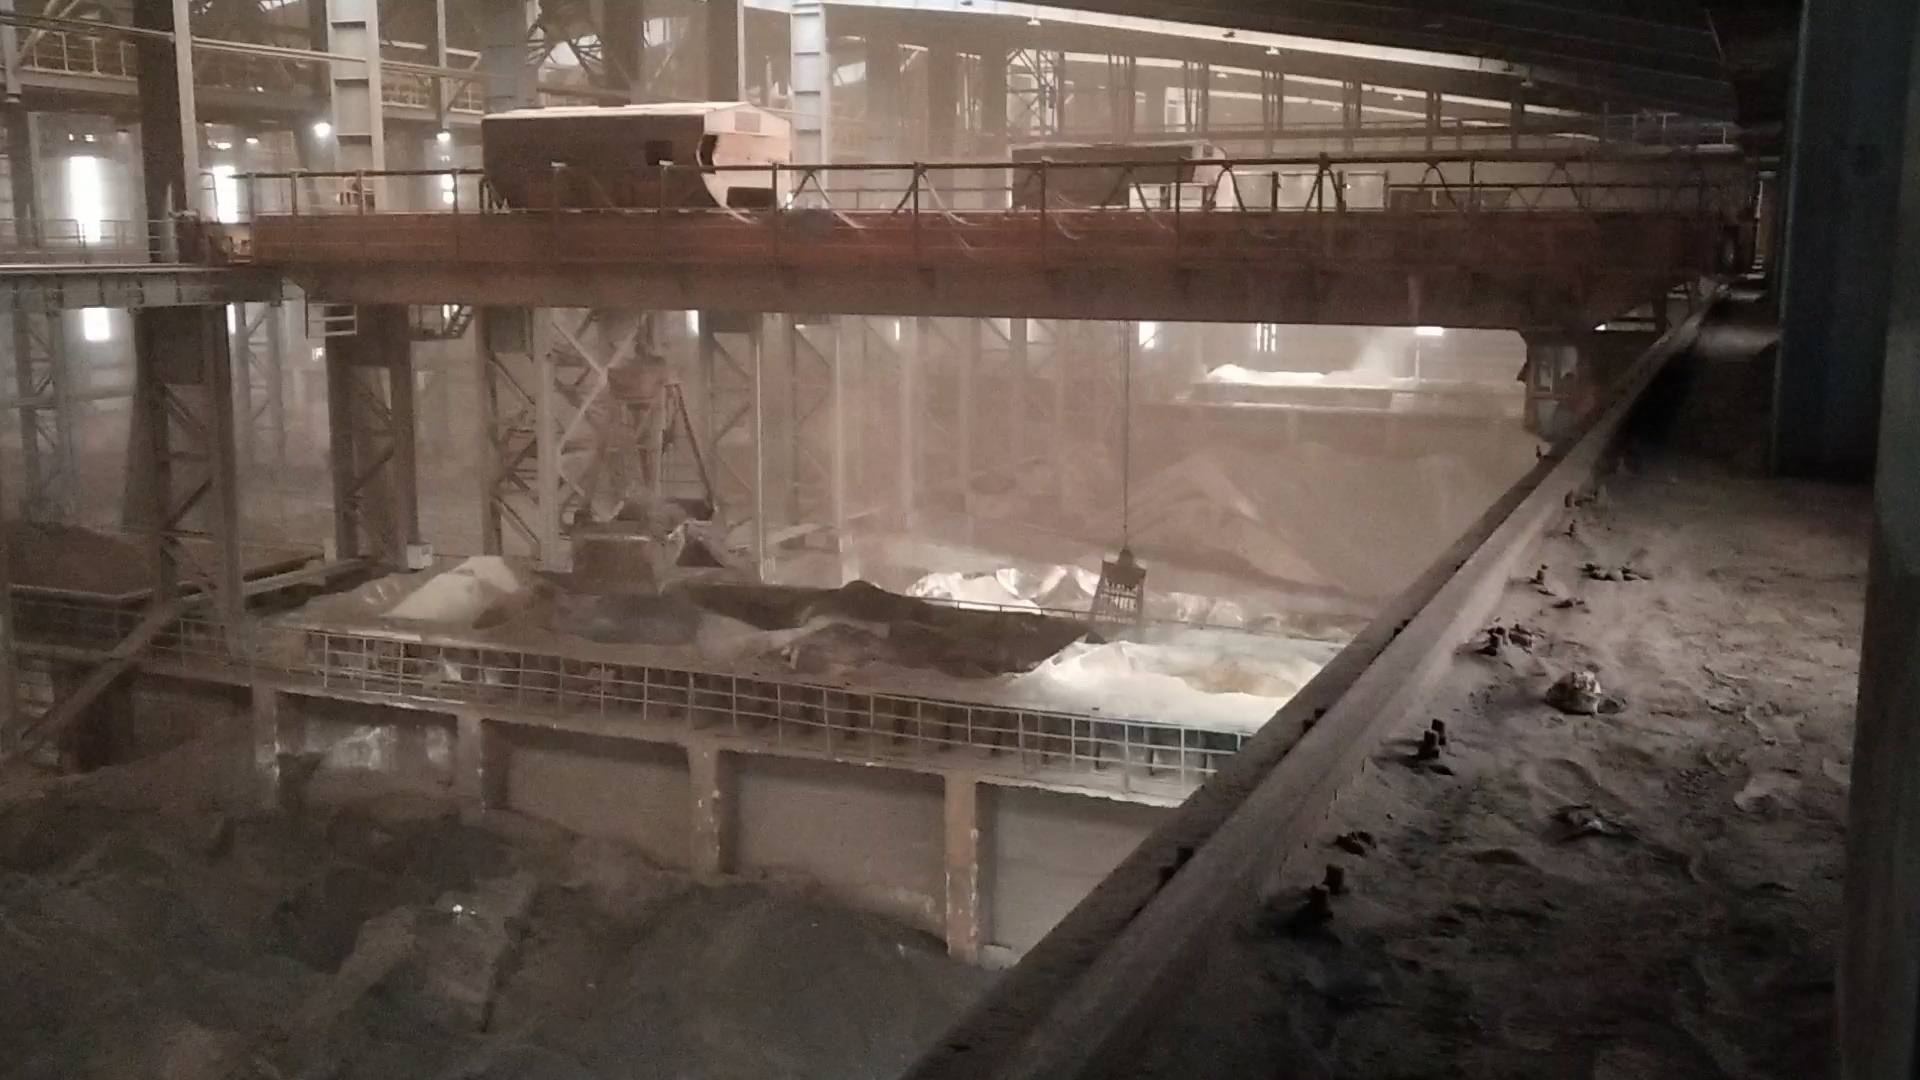dust: (777, 393, 923, 599)
grab: (560, 338, 741, 603), (1083, 547, 1150, 647)
